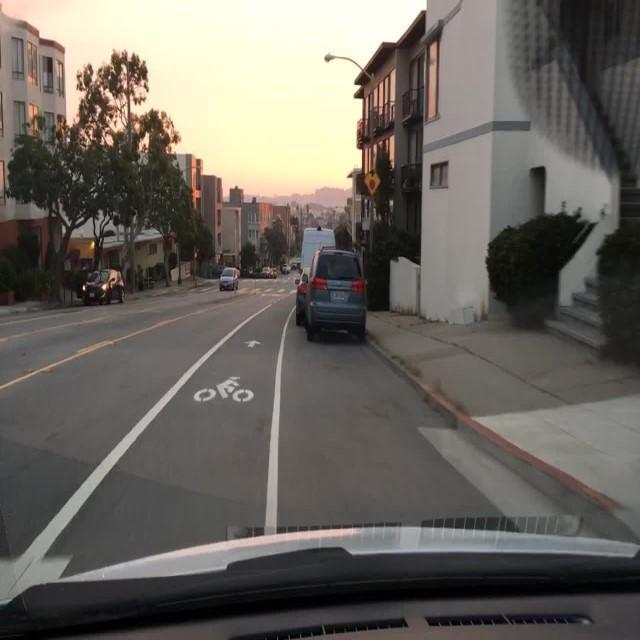normal: (205, 200, 389, 349)
